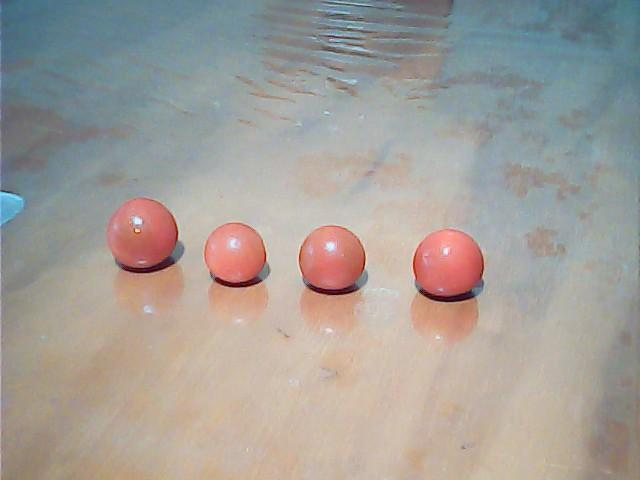maduro: (106, 197, 178, 271), (413, 229, 485, 298), (298, 225, 364, 290), (204, 221, 268, 285)
